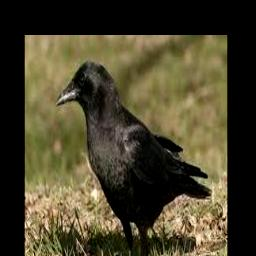Crow: (56, 59, 210, 256)
